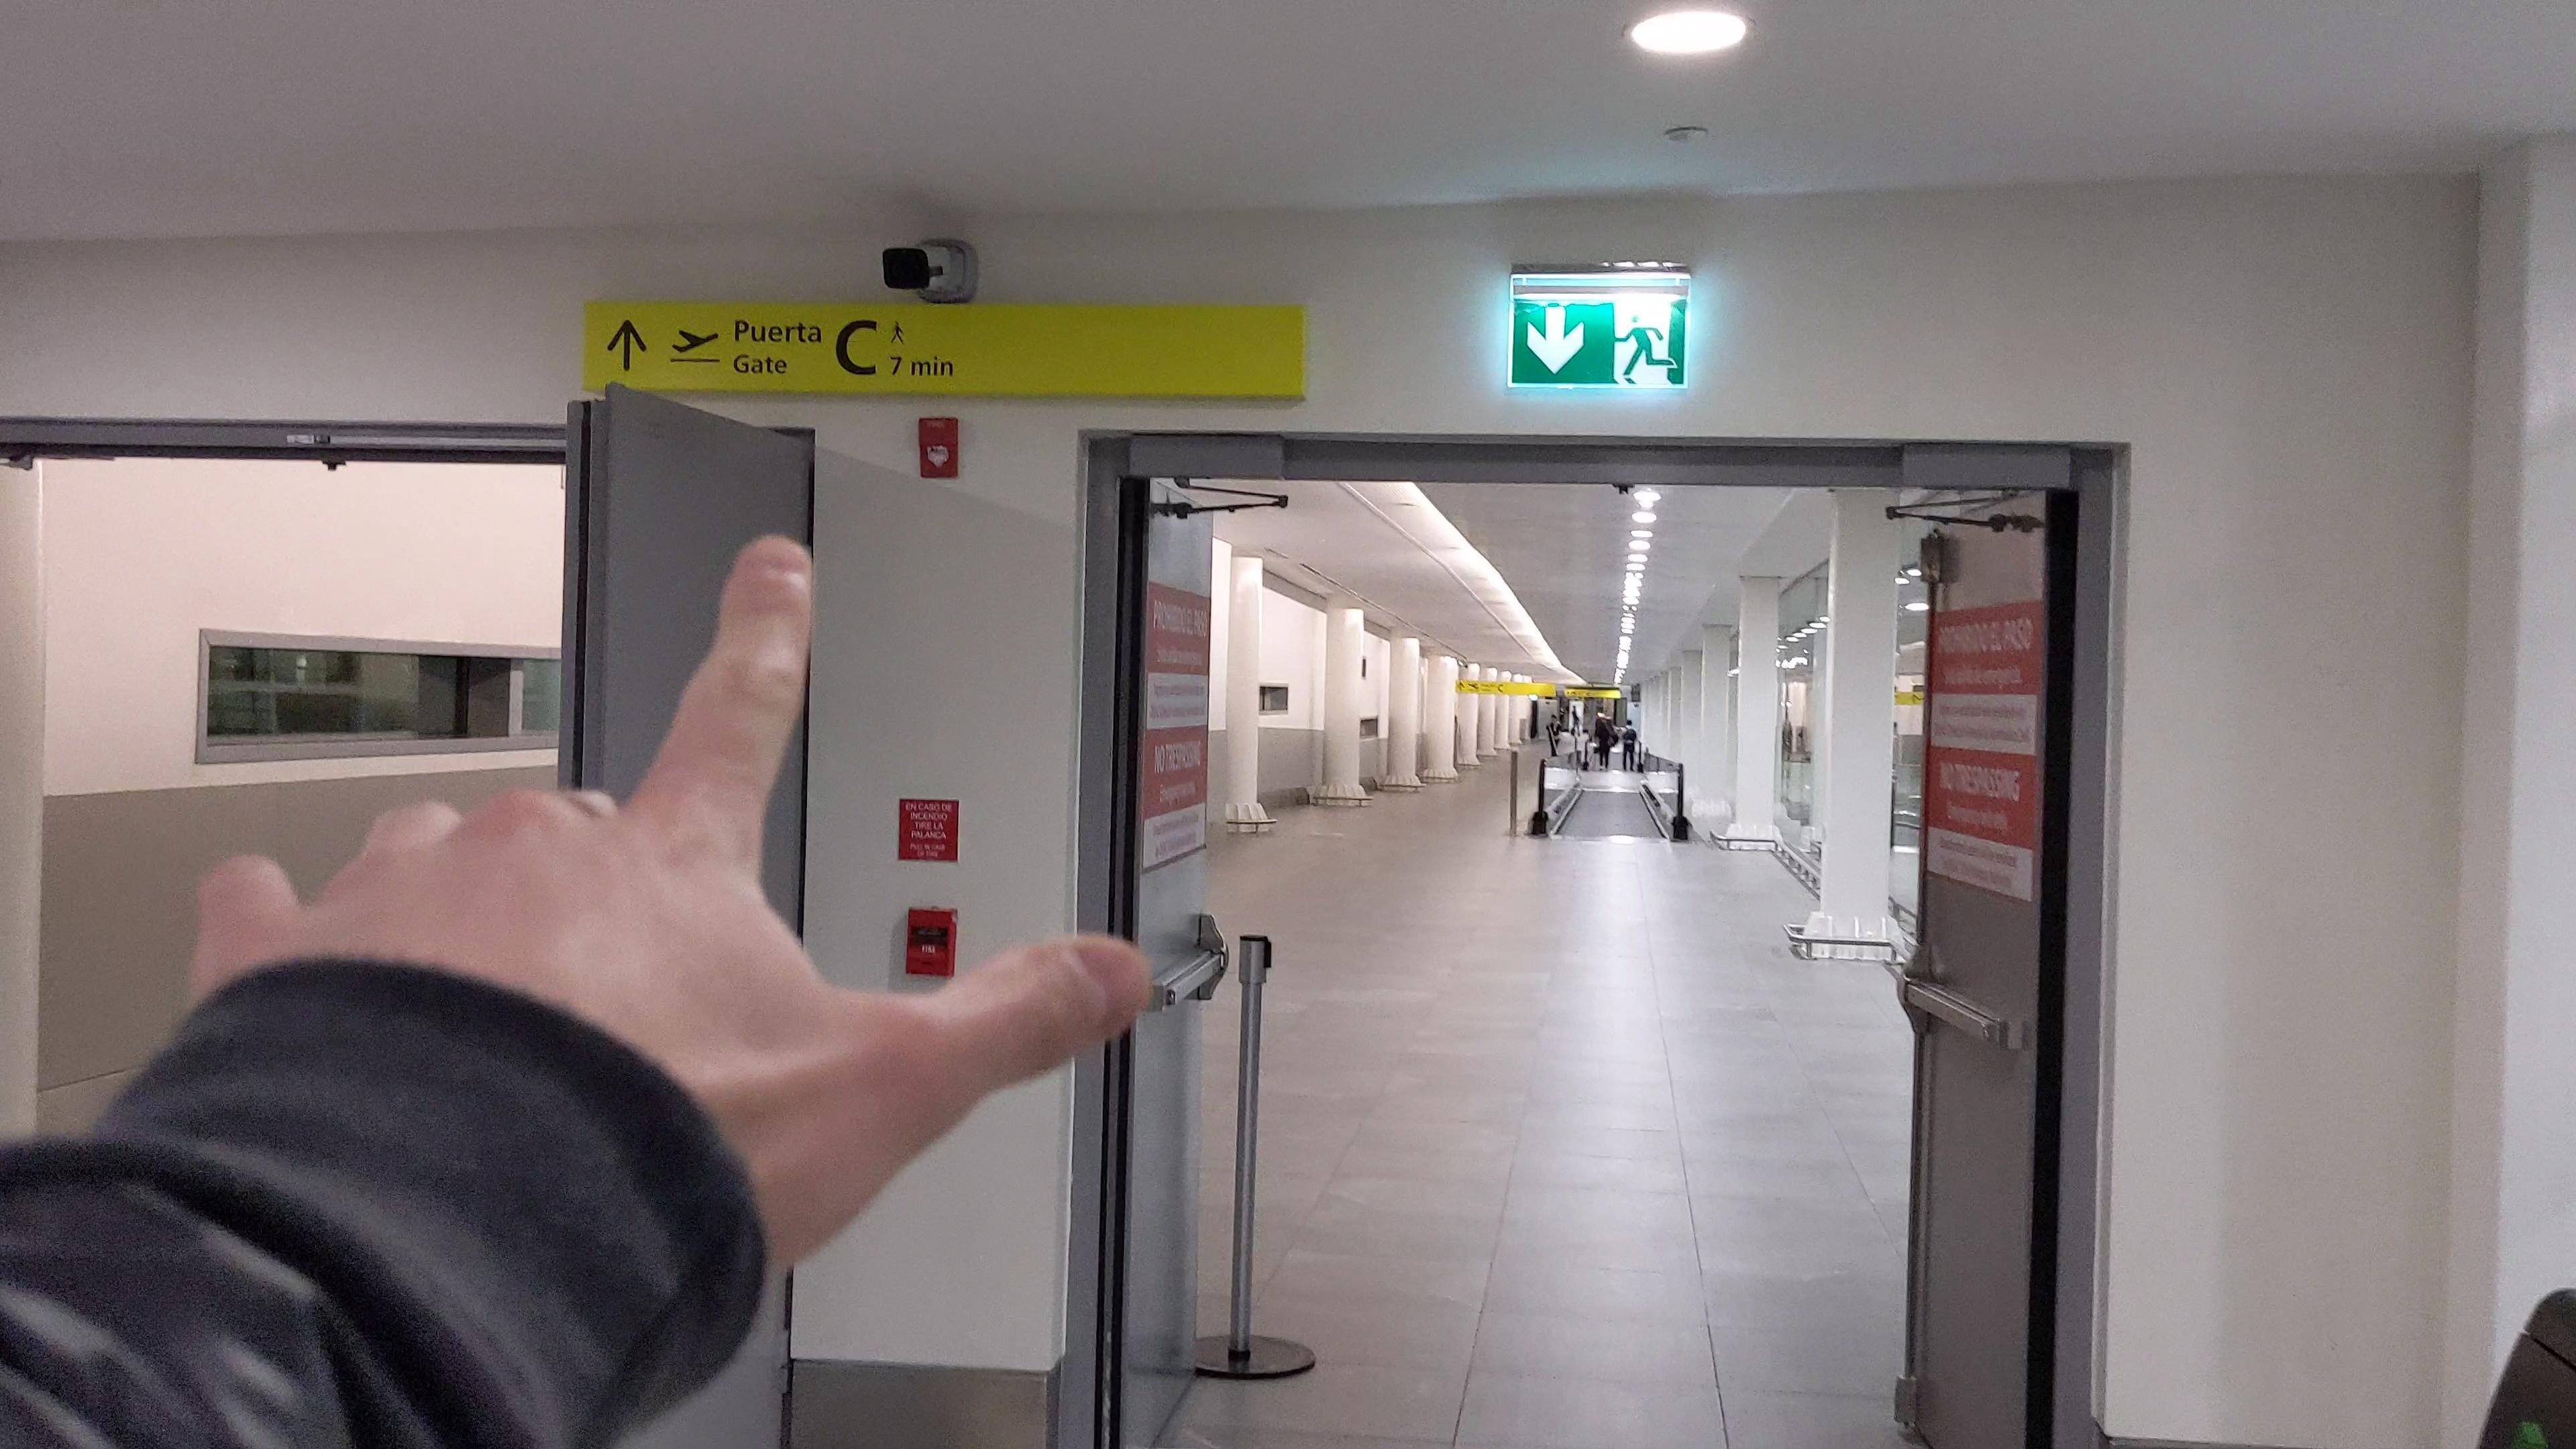airplane symbol: (671, 327, 722, 356)
emergency down arrow: (1523, 303, 1587, 375)
emergency exit: (1603, 297, 1688, 389)
no trespassing: (1925, 593, 2056, 908), (1143, 579, 1210, 878)
thin up arrow: (605, 317, 653, 375)
